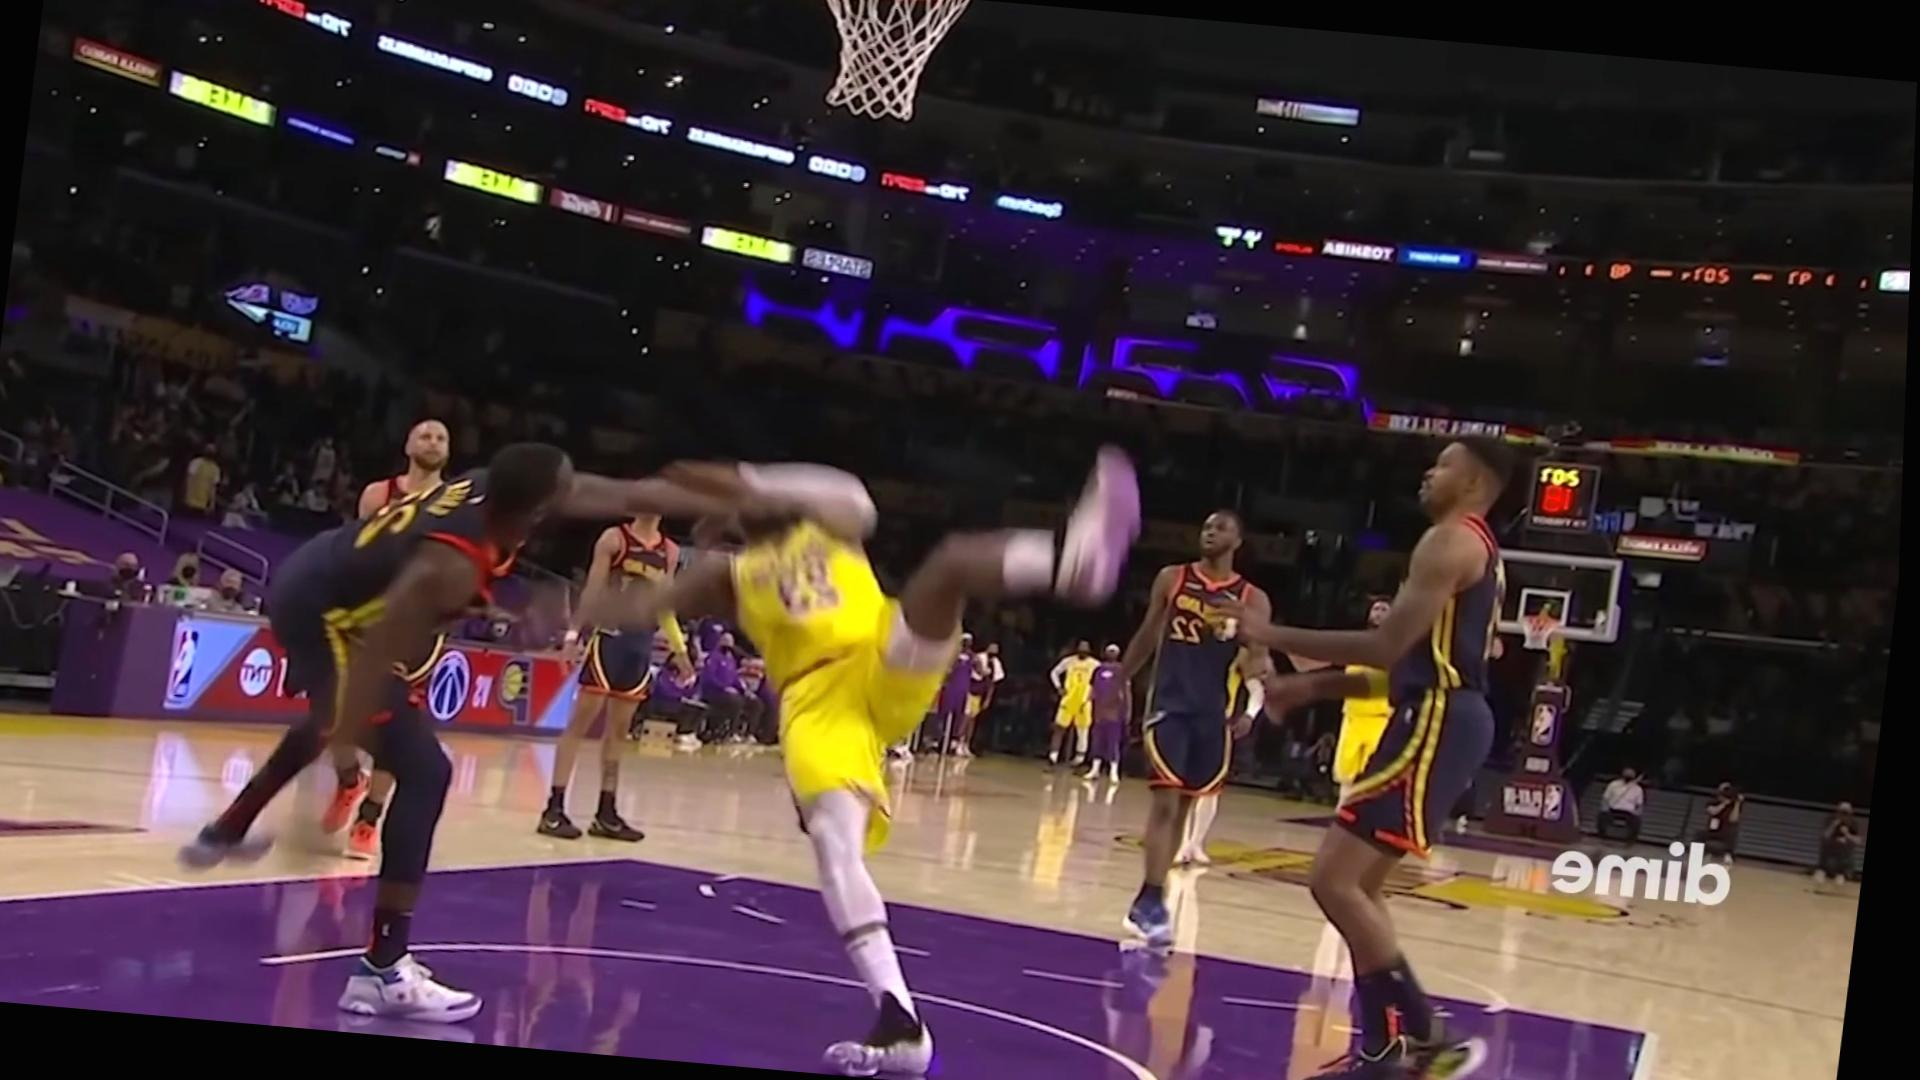foul: (189, 319, 1138, 1059)
